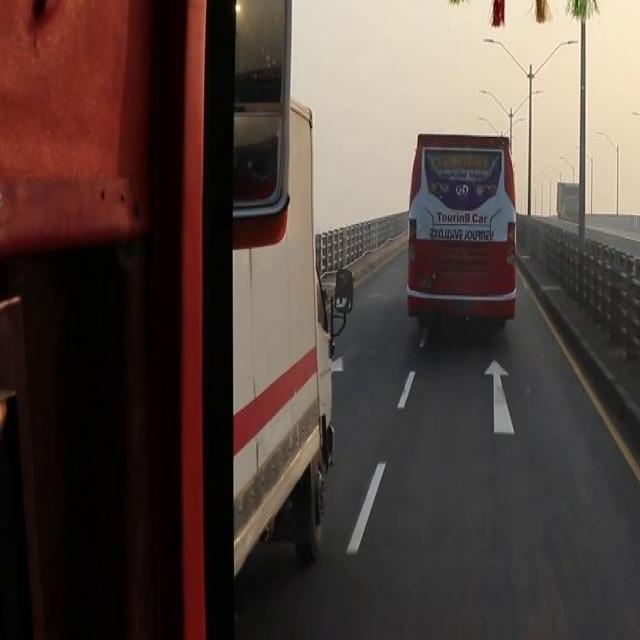11: (223, 95, 351, 571), (556, 180, 582, 220)
Truck: (406, 133, 516, 316)
